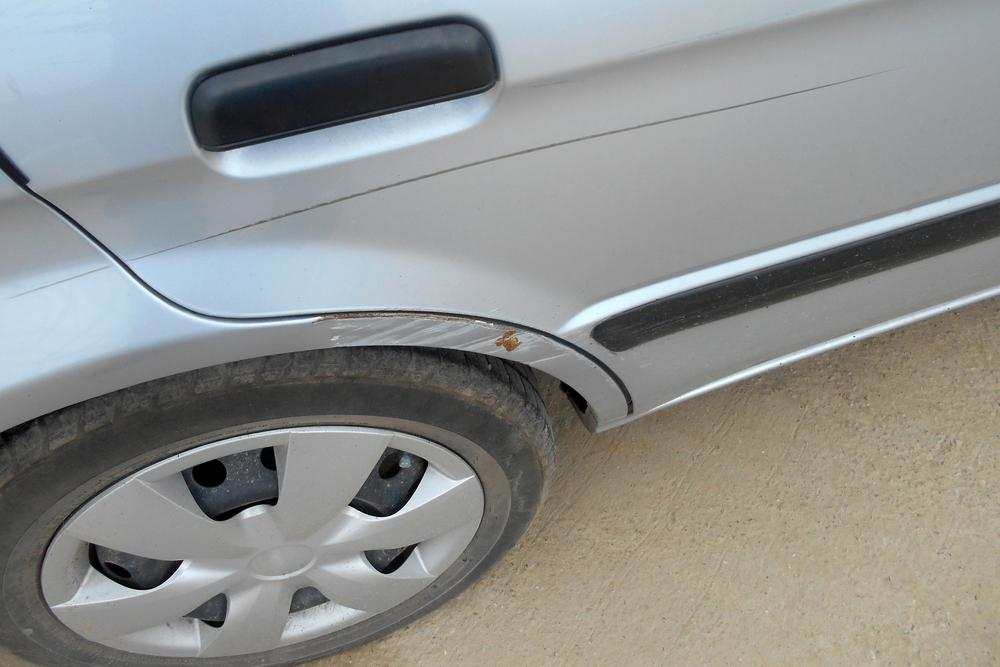scratch: (129, 68, 888, 261), (313, 312, 552, 364), (6, 262, 112, 303)
